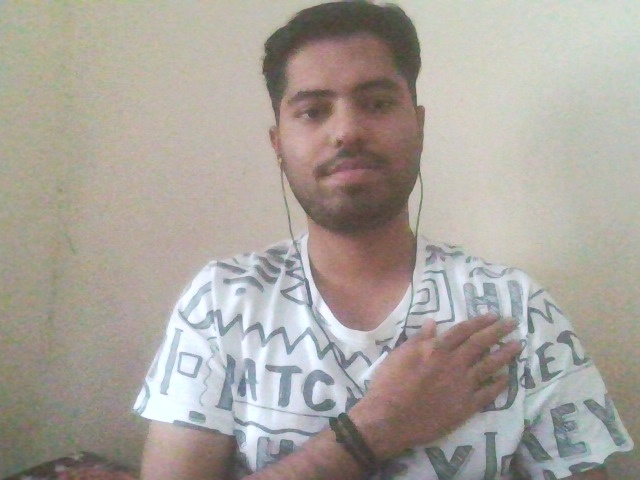Please: (361, 298, 532, 454)
